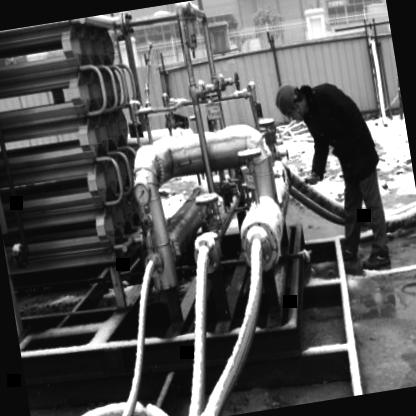helmet: (266, 78, 309, 121)
